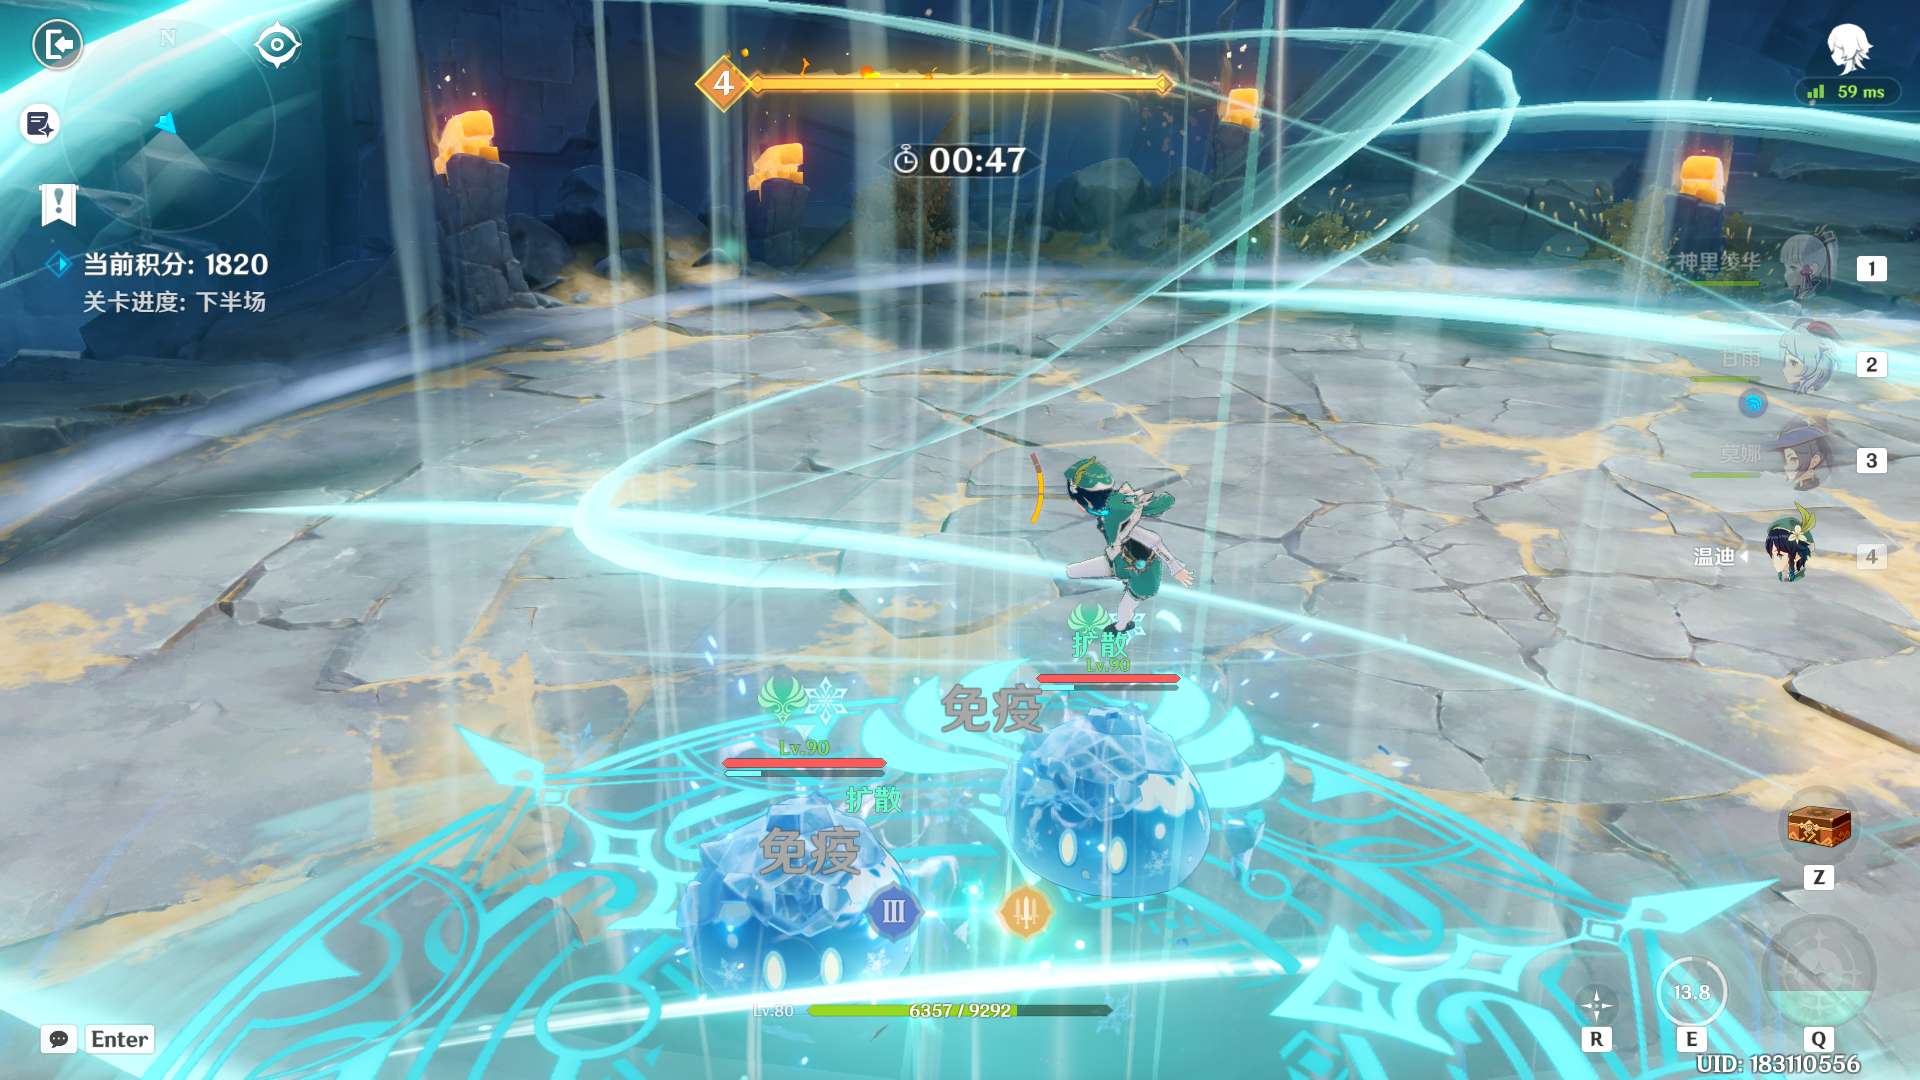character: (1013, 400, 1244, 702)
slime: (609, 732, 943, 1014), (977, 678, 1226, 916)
